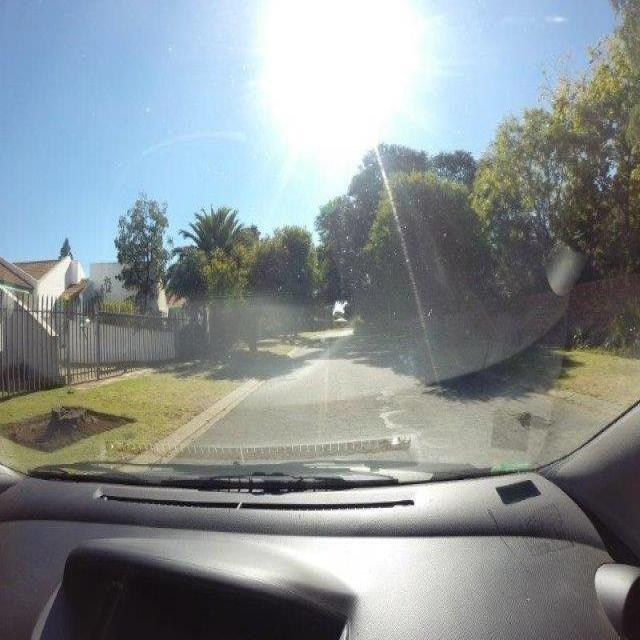jalan retak: (370, 390, 422, 439)
lubang: (513, 412, 552, 432)
